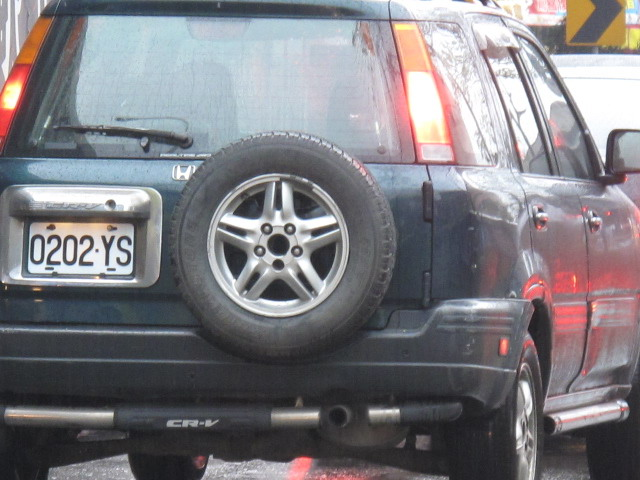plate: (25, 219, 137, 278)
